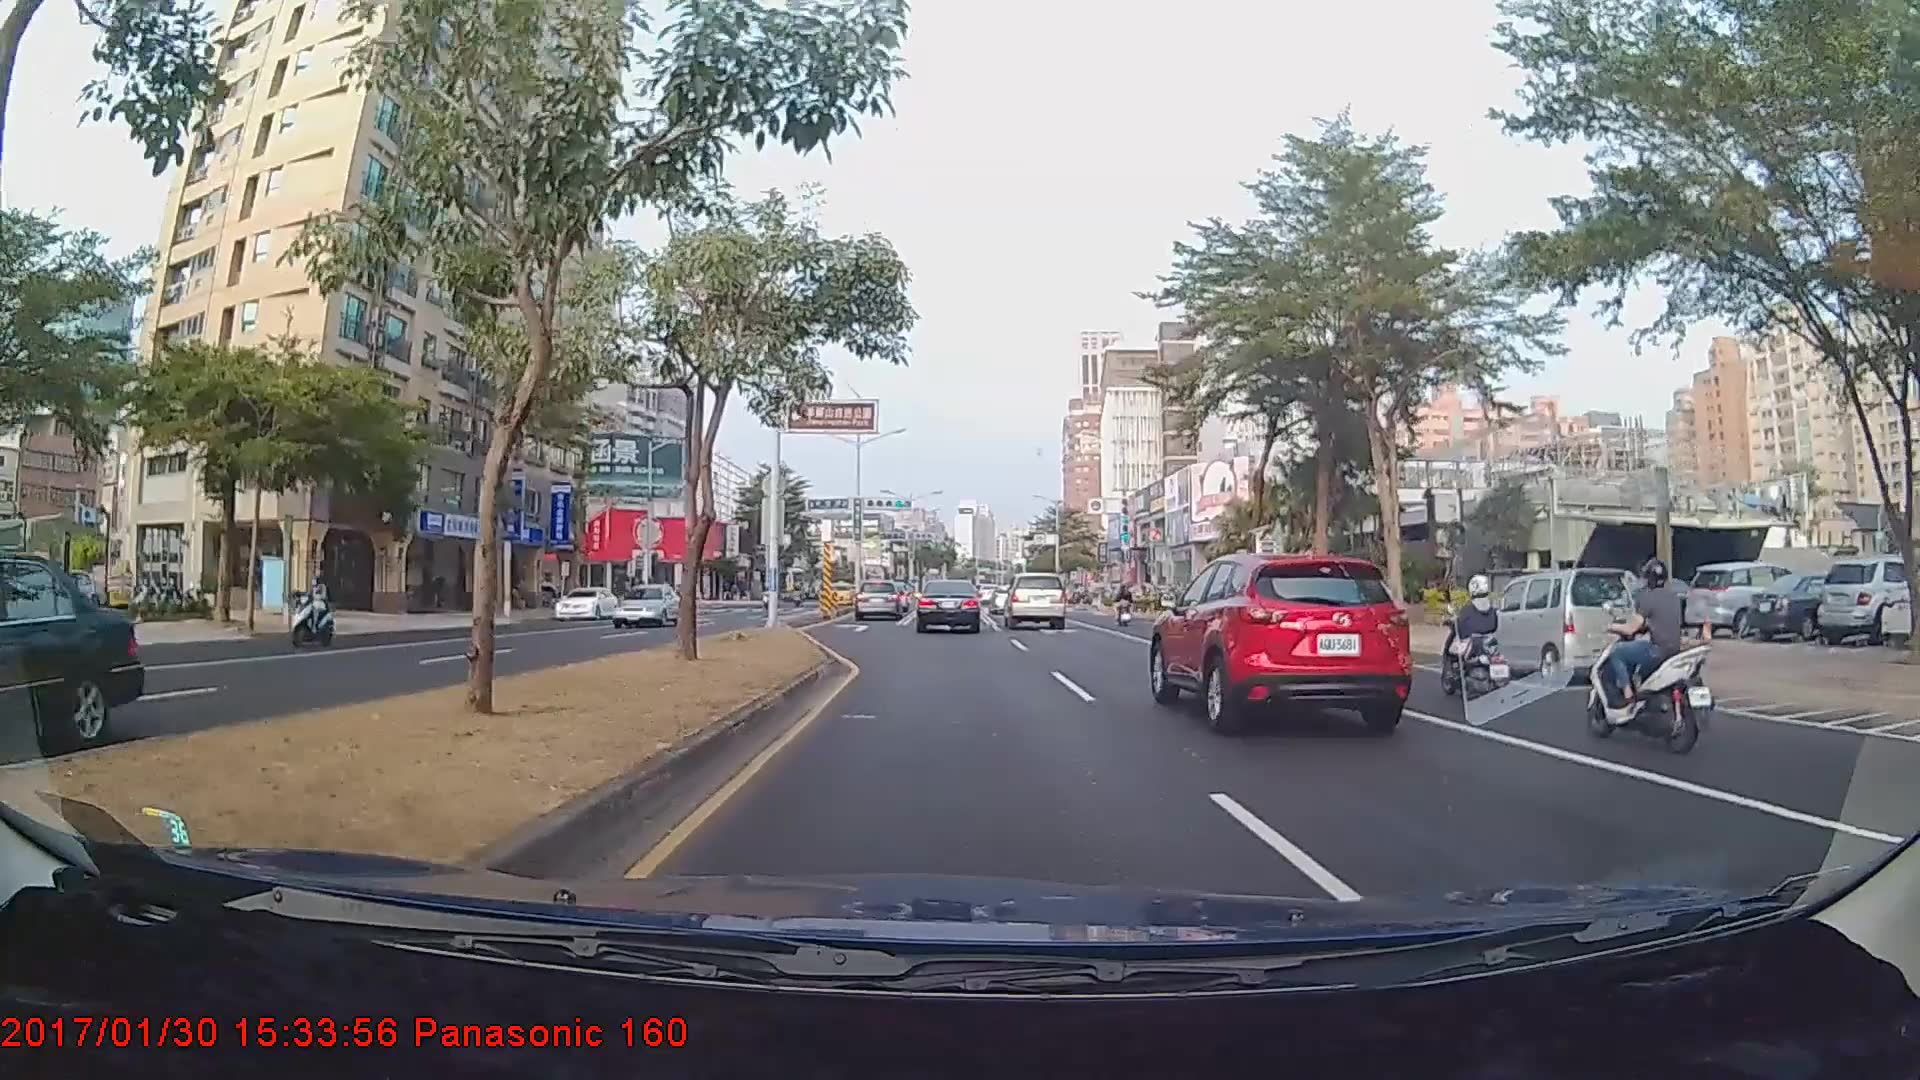rider: (1576, 554, 1717, 751), (1431, 572, 1528, 714), (286, 572, 340, 649), (1117, 587, 1139, 631)
vehicle: (1151, 545, 1413, 726), (4, 555, 161, 747), (1473, 566, 1642, 686), (1684, 562, 1812, 636), (1001, 571, 1067, 630), (917, 578, 981, 633), (610, 583, 683, 628), (853, 579, 908, 621), (554, 587, 619, 620)
